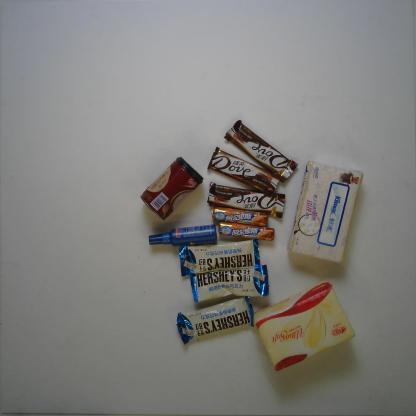Candy: (211, 205, 268, 228), (219, 222, 276, 242)
Canned Food: (136, 155, 204, 221)
Chocolate: (224, 120, 299, 182), (177, 294, 255, 344), (205, 147, 280, 194), (206, 182, 288, 221), (189, 265, 273, 303), (178, 241, 262, 276)
Personal Hygiene: (148, 225, 218, 247)
Tissue: (252, 280, 355, 372), (288, 160, 364, 264)
